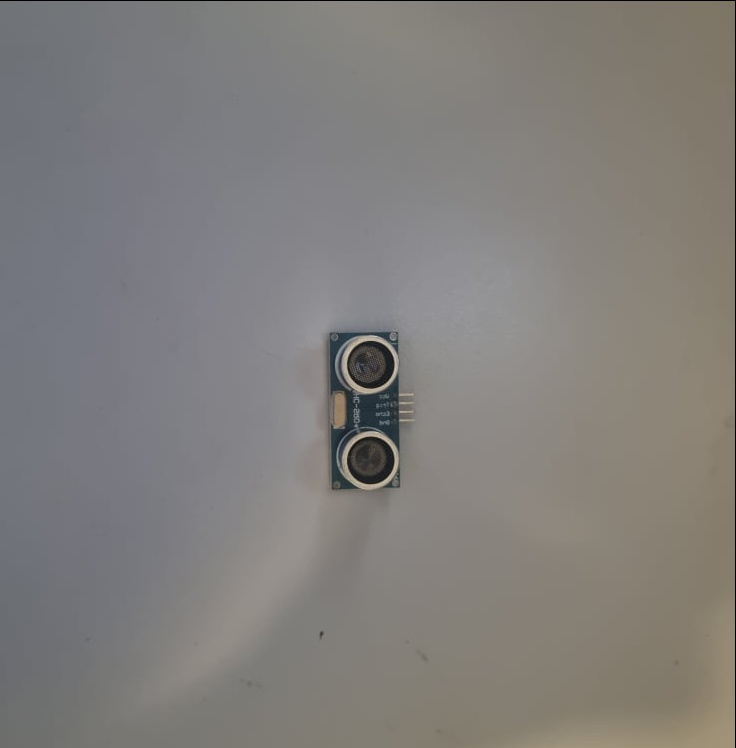SENSOR: (330, 330, 402, 492)
